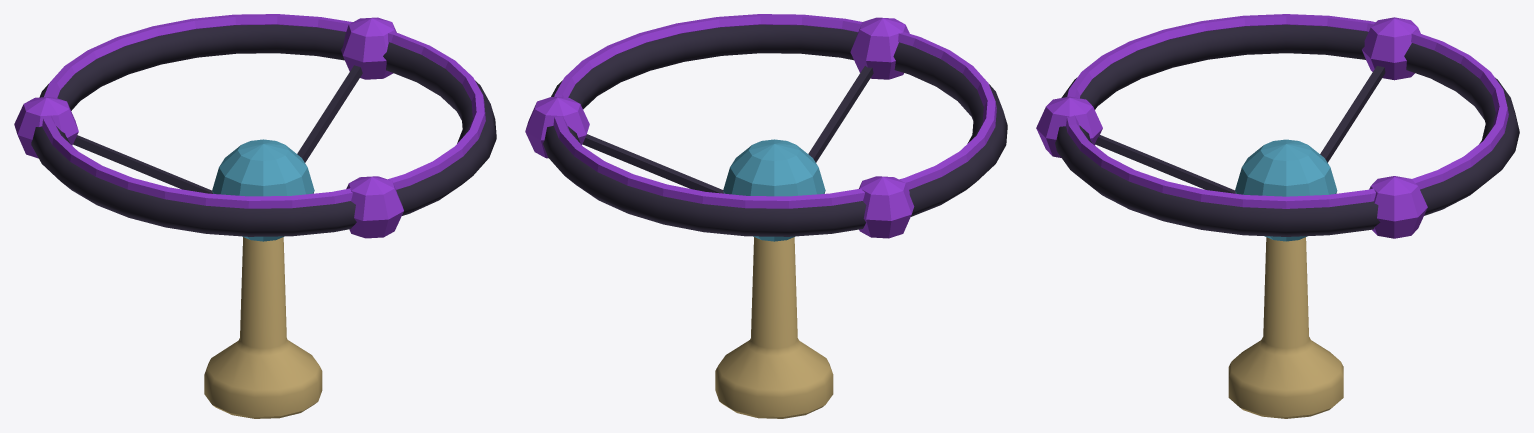
The model's file is Kit_Deco_LeagueHalo.glb.
3 views of the same model, side by side, from view 1: azimuth 30°, elevation 25°; view 2: azimuth 150°, elevation 25°; view 3: azimuth 270°, elevation 25° (orthographic).
Parts seen in each view (by area): view 1: Kit_Deco_LeagueHalo; view 2: Kit_Deco_LeagueHalo; view 3: Kit_Deco_LeagueHalo.
Boxes of the visible parts, box(x1,y1,x2,y2) form: Kit_Deco_LeagueHalo: box(14, 14, 496, 418); Kit_Deco_LeagueHalo: box(525, 14, 1007, 418); Kit_Deco_LeagueHalo: box(1036, 14, 1519, 418).
Bounding box in the file's own units: 0.2374 × 0.167 × 0.2457.
